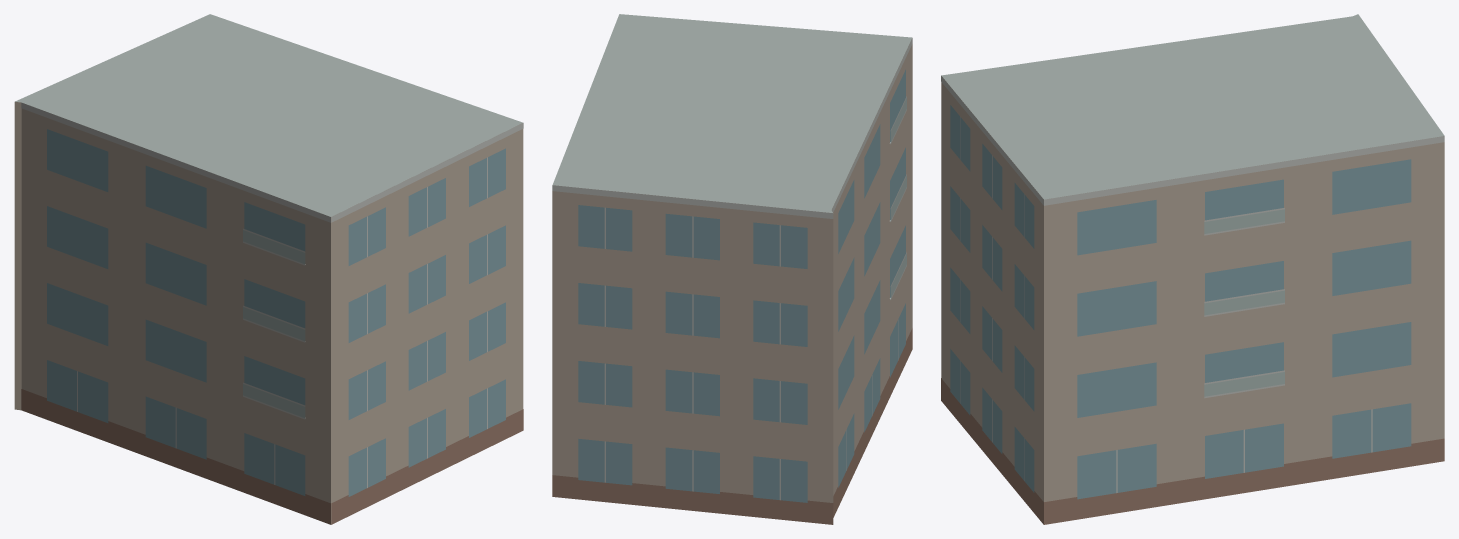
File: survey-upis-32847406.glb
3 renders of one model, left to right at view 1: azimuth 30°, elevation 25°; view 2: azimuth 150°, elevation 25°; view 3: azimuth 270°, elevation 25°, orthographic. The views are drawn at different scales.
Parts seen in each view (by area): view 1: survey-upis-32847406.tmp; view 2: survey-upis-32847406.tmp; view 3: survey-upis-32847406.tmp.
Boxes of the visible parts, x1,y1,x2,y2 form: survey-upis-32847406.tmp: [14, 14, 523, 524]; survey-upis-32847406.tmp: [552, 14, 912, 524]; survey-upis-32847406.tmp: [941, 14, 1444, 524].
Bounding box in the file's own units: 15.68 × 12.8 × 17.97.
